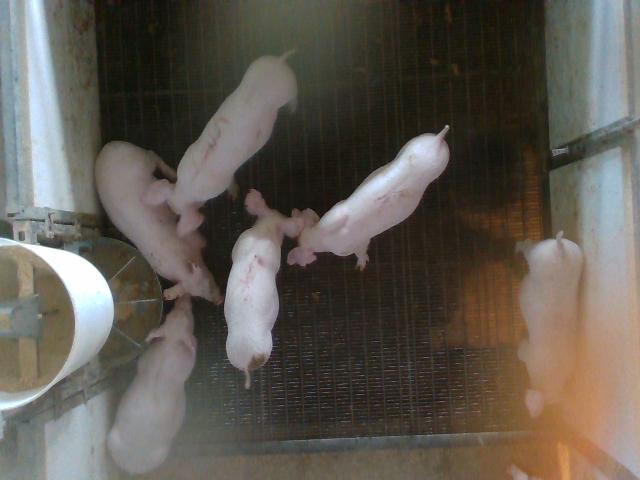pig-3: (145, 50, 296, 237)
pig-4: (516, 232, 582, 417)
pig-5: (224, 189, 304, 388)
